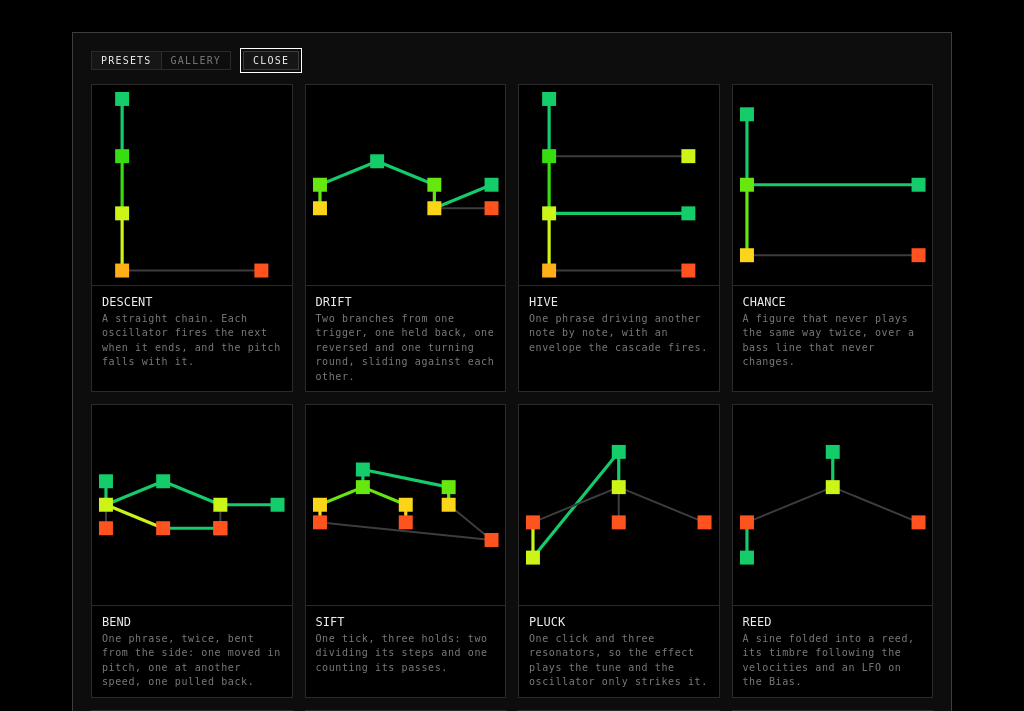
Test: Gallery › shows a published patch with its name, author and a drawing of itself
Click the button "GALLERY" at [195, 60], box [160,52,230,69]
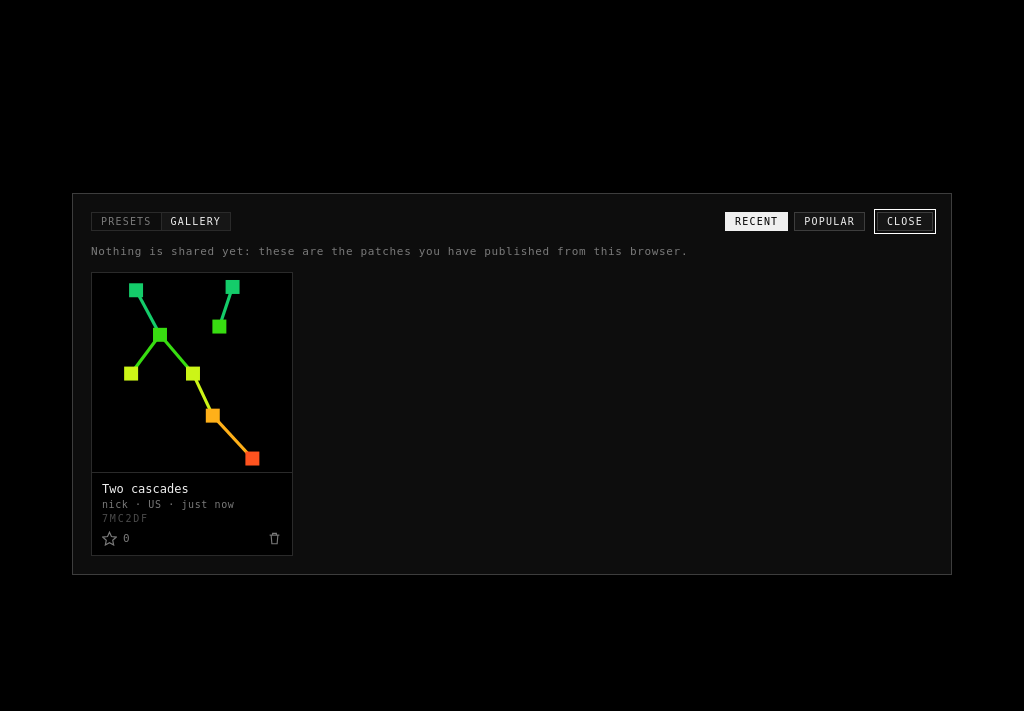
Expected: the icon with class "thumb" is shown, [92,273,292,472]
Result: the text "Two cascades" is shown at [102,482,189,496]
Result: the text "nick · US · just now" is shown at [102,499,234,510]
